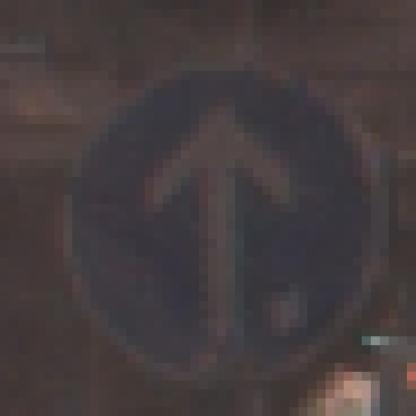AheadOnly: (55, 54, 372, 373)
